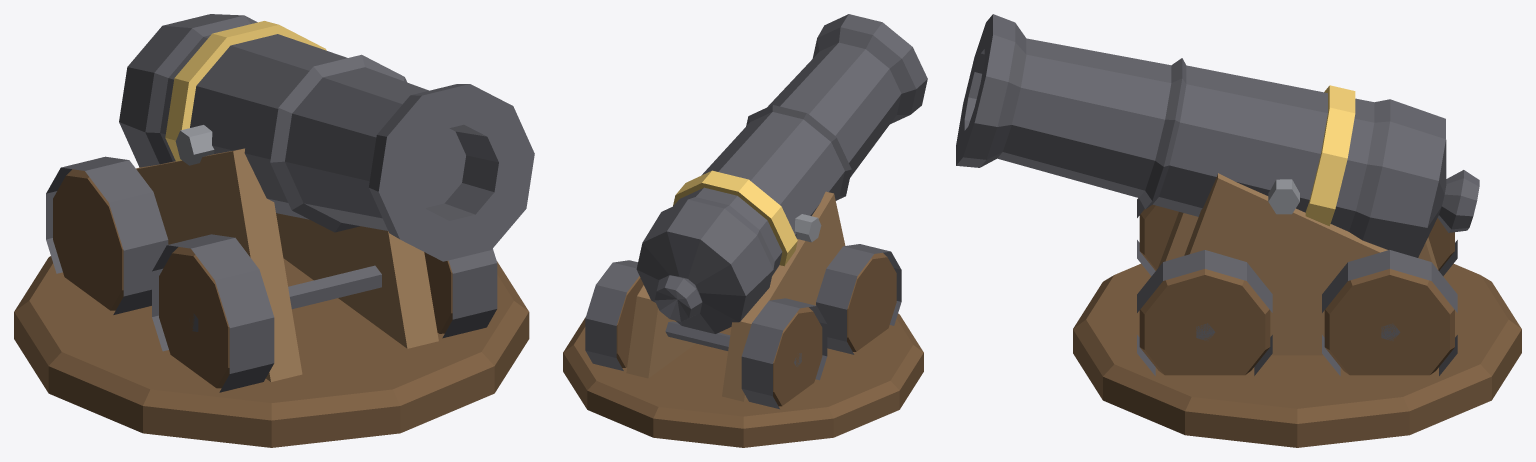
Rendered from cannon_turret_3.glb.
3 views of the same model, side by side, from view 1: azimuth 30°, elevation 25°; view 2: azimuth 150°, elevation 25°; view 3: azimuth 270°, elevation 25° (orthographic). The views are drawn at different scales.
Parts seen in each view (by area): view 1: Cannon; view 2: Cannon; view 3: Cannon.
Boxes of the visible parts, bbox=[...] form: Cannon: bbox=[14, 14, 534, 447]; Cannon: bbox=[563, 14, 927, 447]; Cannon: bbox=[956, 14, 1521, 447].
Size of the model in its own units: 1.7 by 1.37 by 2.14.
